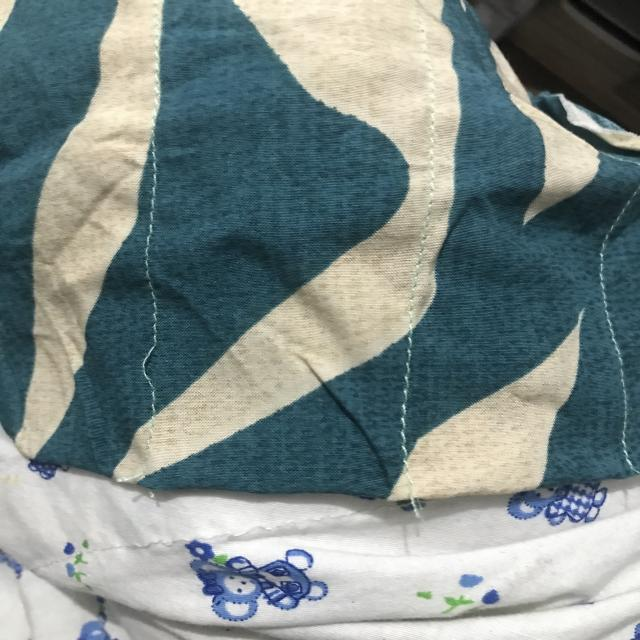good: (137, 250, 164, 303)
skip: (129, 330, 170, 397)
